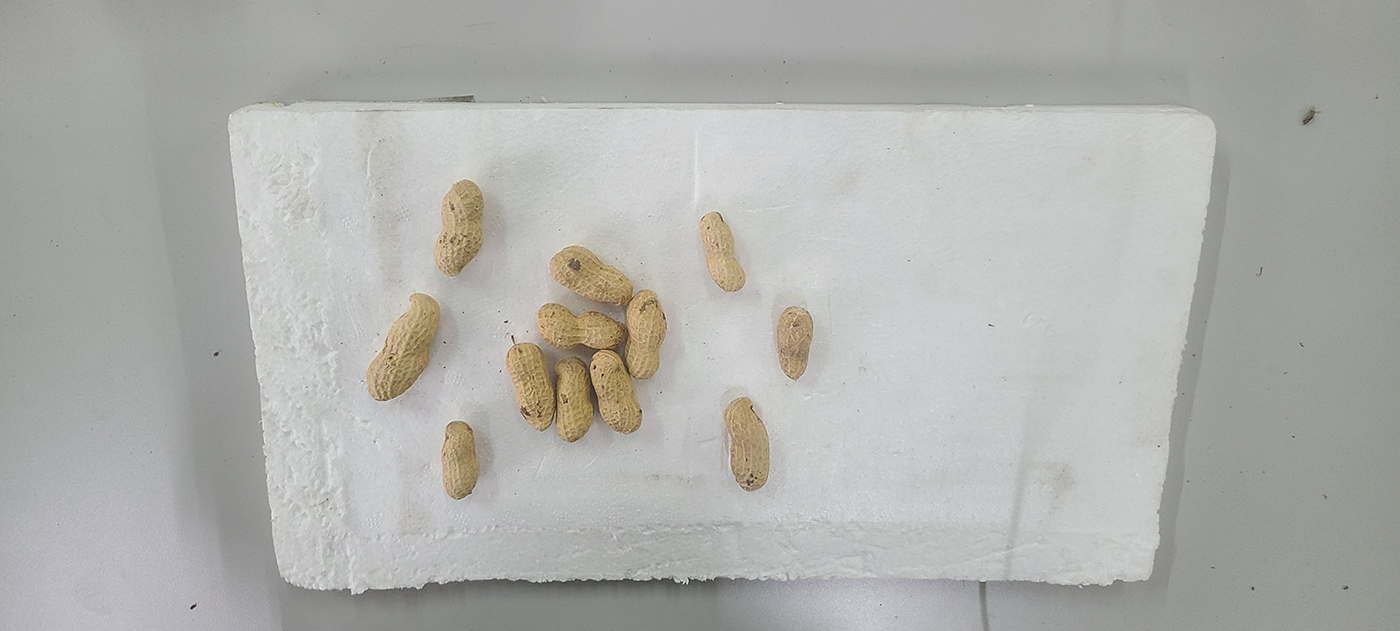h: (366, 293, 441, 402), (550, 245, 633, 305), (434, 180, 485, 277), (723, 395, 770, 491), (590, 349, 643, 433), (506, 343, 556, 431), (538, 302, 628, 350), (624, 289, 667, 379), (700, 211, 746, 292), (553, 355, 594, 443), (440, 418, 479, 501), (777, 308, 813, 380)
